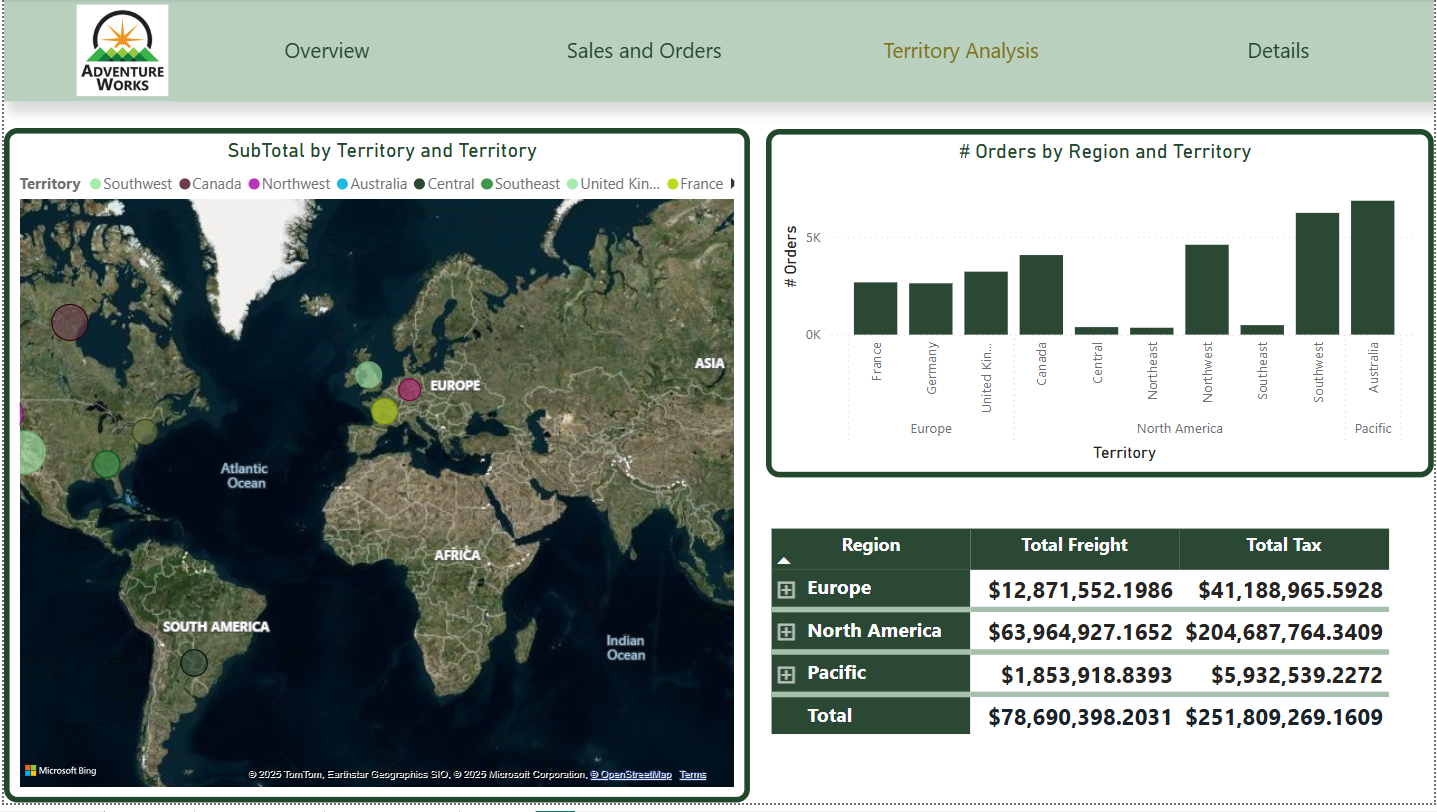

This screenshot's page, from the dashboard's own definition file:
{"tool":"powerbi","page":{"name":"Territory Analysis","canvas":[1280,720],"ordinal":2},"visuals":[{"type":"map","fields":{"Size":["MeasuresTable.SubTotal"],"Series":["DimTerritories.Territory"],"Category":["DimTerritories.Territory"]},"box":[0,115.3,667.6,604.3],"z":0},{"type":"clusteredColumnChart","fields":{"Category":["DimTerritories.Region","DimTerritories.Territory"],"Y":["MeasuresTable.# Orders"]},"box":[682,116.1,598,312.3],"z":1000},{"type":"pivotTable","fields":{"Rows":["DimTerritories.Region","DimTerritories.Territory"],"Values":["MeasuresTable.Total Freight","MeasuresTable.Total Tax"]},"box":[682.4,469.3,597.3,216.7],"z":2000},{"type":"shape","box":[0,0,1280,92.3],"z":3000},{"type":"image","box":[33,0,146,92],"z":4000},{"type":"pageNavigator","box":[152,0,1128,92],"z":5000}]}

Visuals, with their boxes in screenshot pixels (x1, y1, x2, y2), scaled from the page's 1280x720 canvas onto the 1437x812 screenshot:
map - MeasuresTable.SubTotal x DimTerritories.Territory: [x1=0, y1=130, x2=749, y2=811]
clusteredColumnChart - DimTerritories.Region x DimTerritories.Territory: [x1=766, y1=131, x2=1436, y2=483]
pivotTable - DimTerritories.Region x DimTerritories.Territory: [x1=766, y1=529, x2=1436, y2=774]
shape: [x1=0, y1=0, x2=1436, y2=104]
image: [x1=37, y1=0, x2=201, y2=104]
pageNavigator: [x1=171, y1=0, x2=1436, y2=104]
